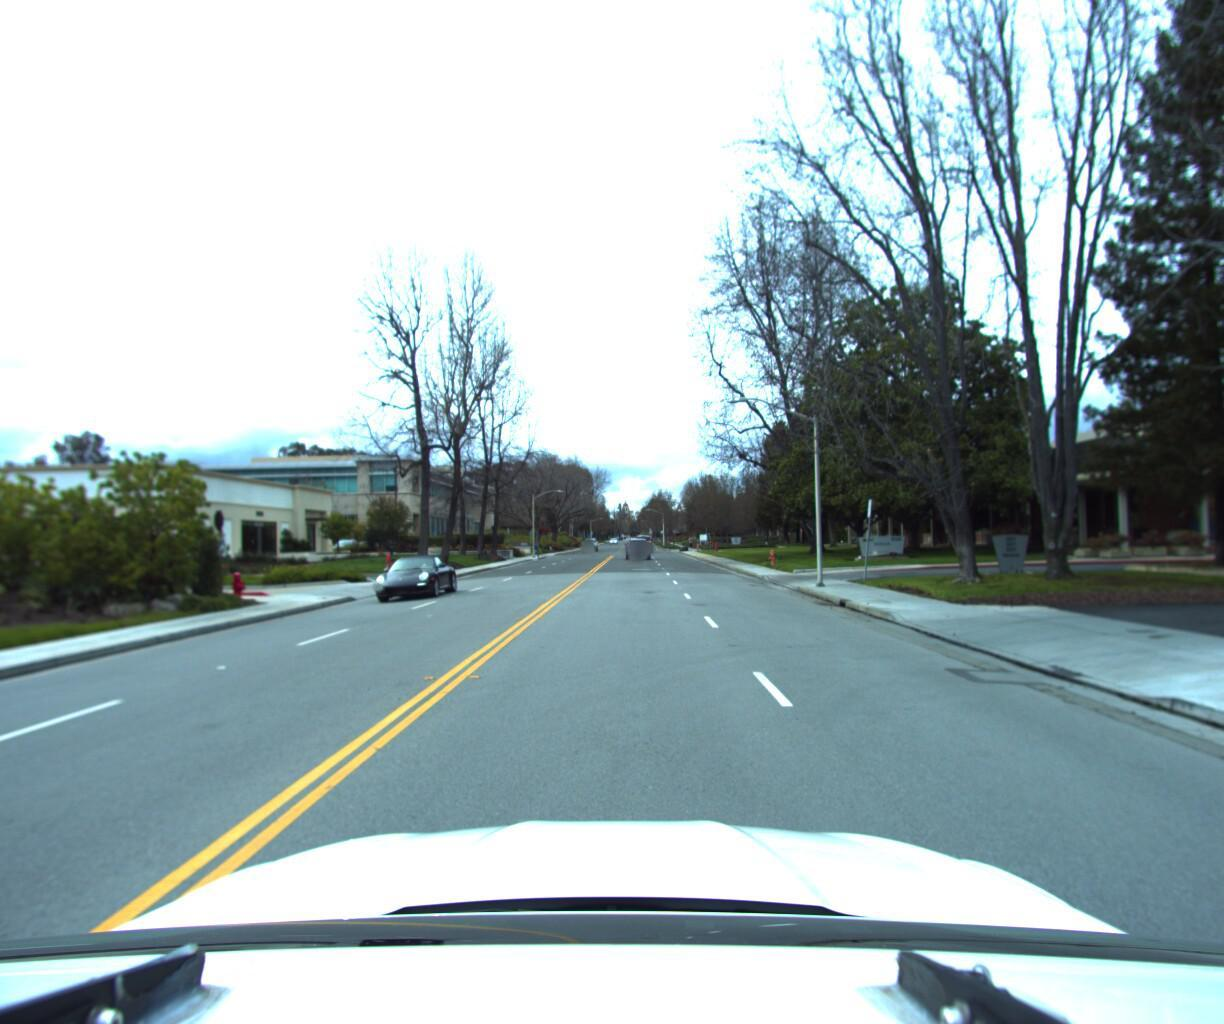car: (373, 553, 463, 604), (624, 534, 649, 557)
